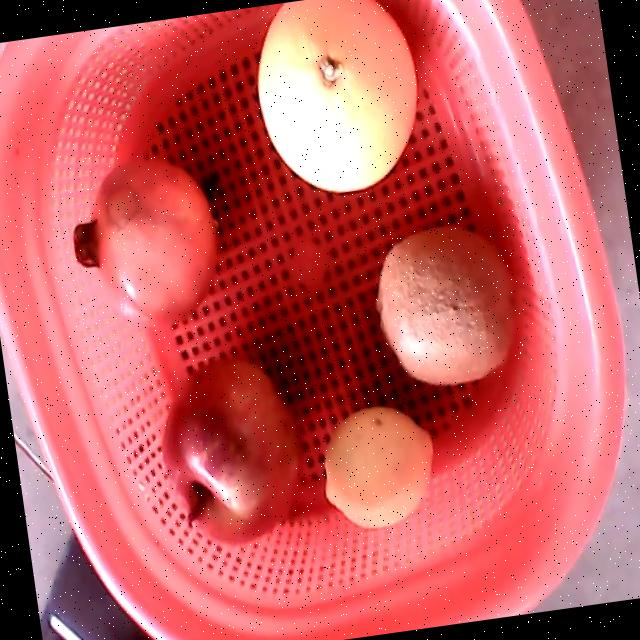apple: (159, 357, 298, 546)
kiwi: (377, 224, 517, 385)
lemon: (322, 406, 433, 528)
orange: (257, 0, 418, 191)
pomegranate: (71, 157, 217, 327)
